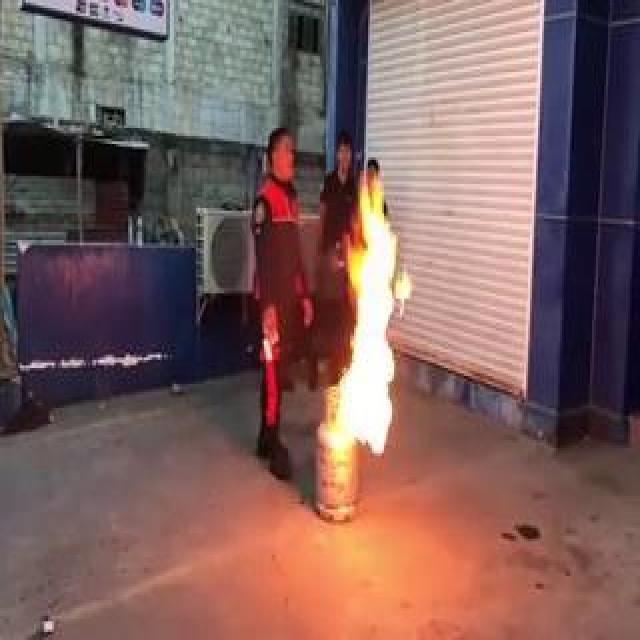Smoke: (321, 168, 413, 459)
